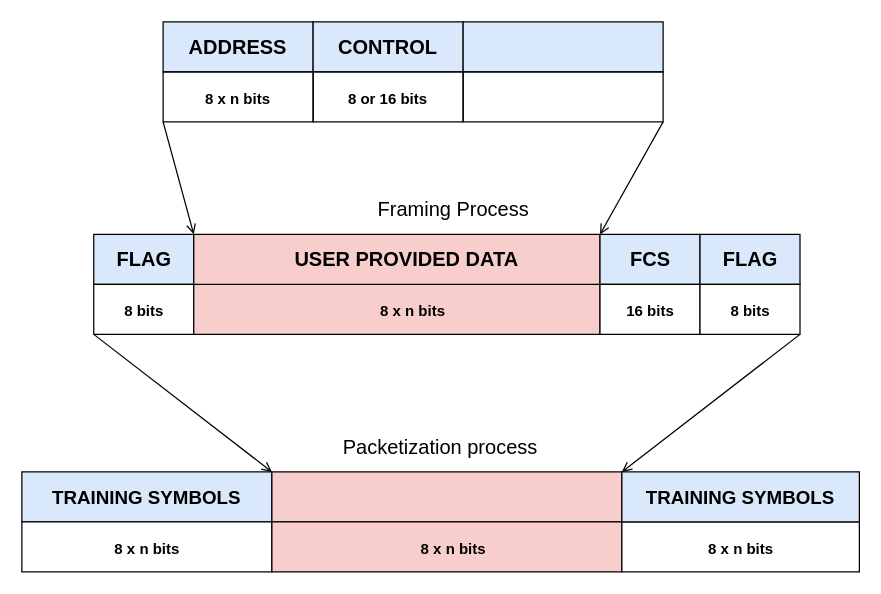
The diagram is 881 pixels wide and 594 high, and some of its shapes have lost their labels. Each missing label, with the box of its shape:
0 up to 256 bits: (462, 71, 663, 122)
HDLC DATA FRAME: (271, 471, 622, 522)
INFORMATION: (462, 21, 663, 72)
